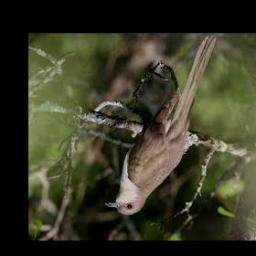Cuckoo: (105, 36, 215, 215)
